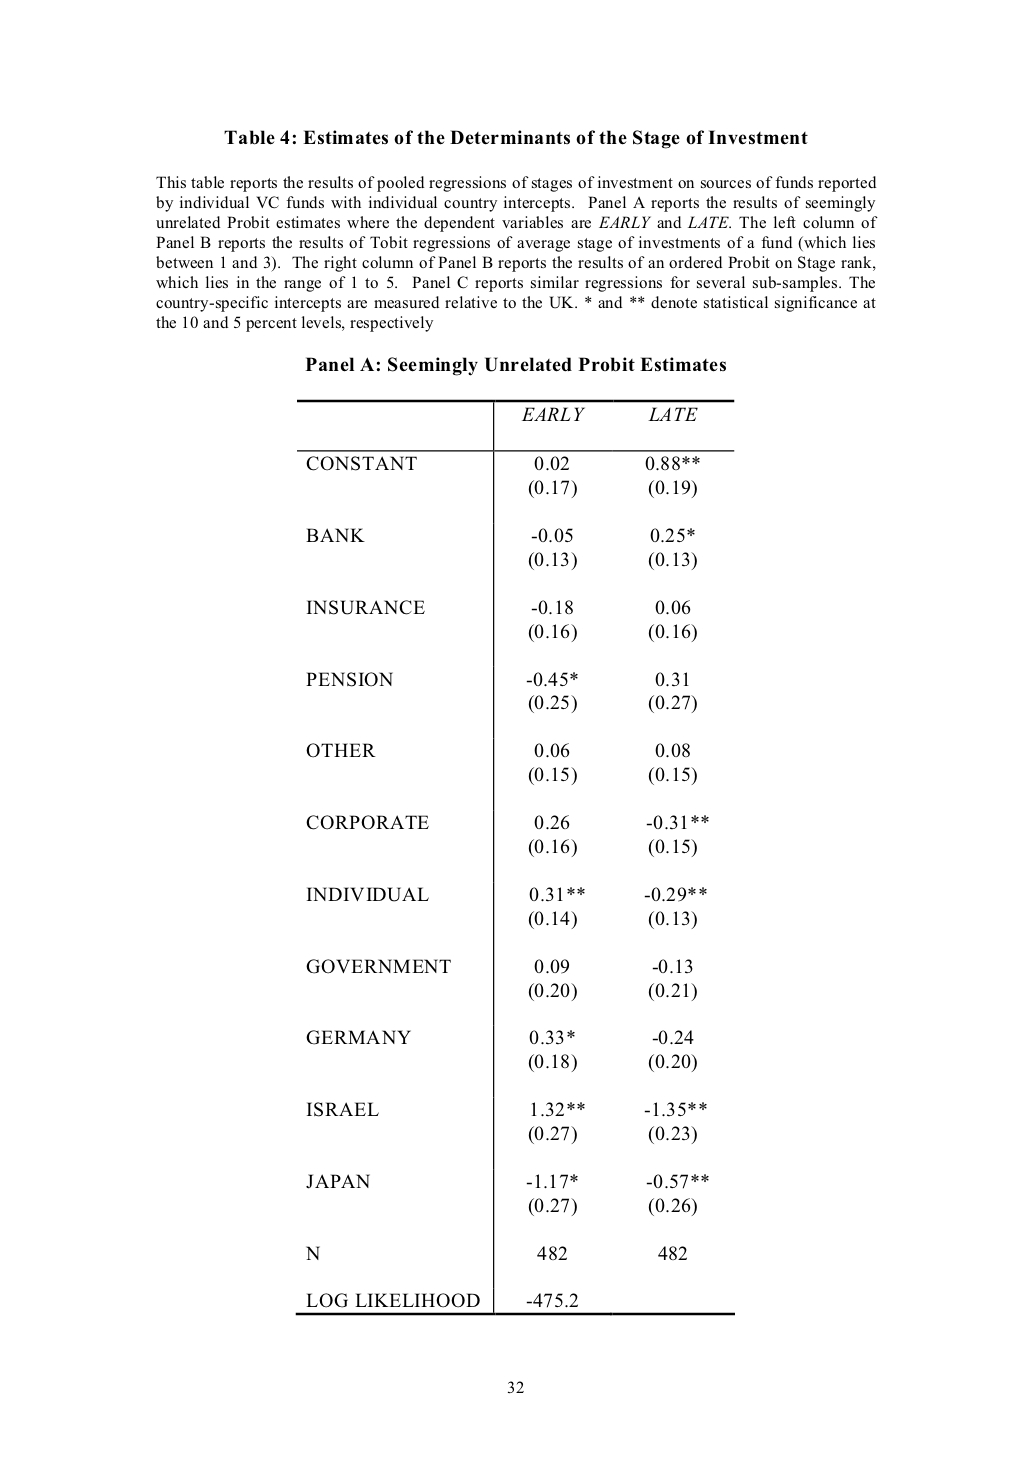Table: (295, 398, 734, 1316)
